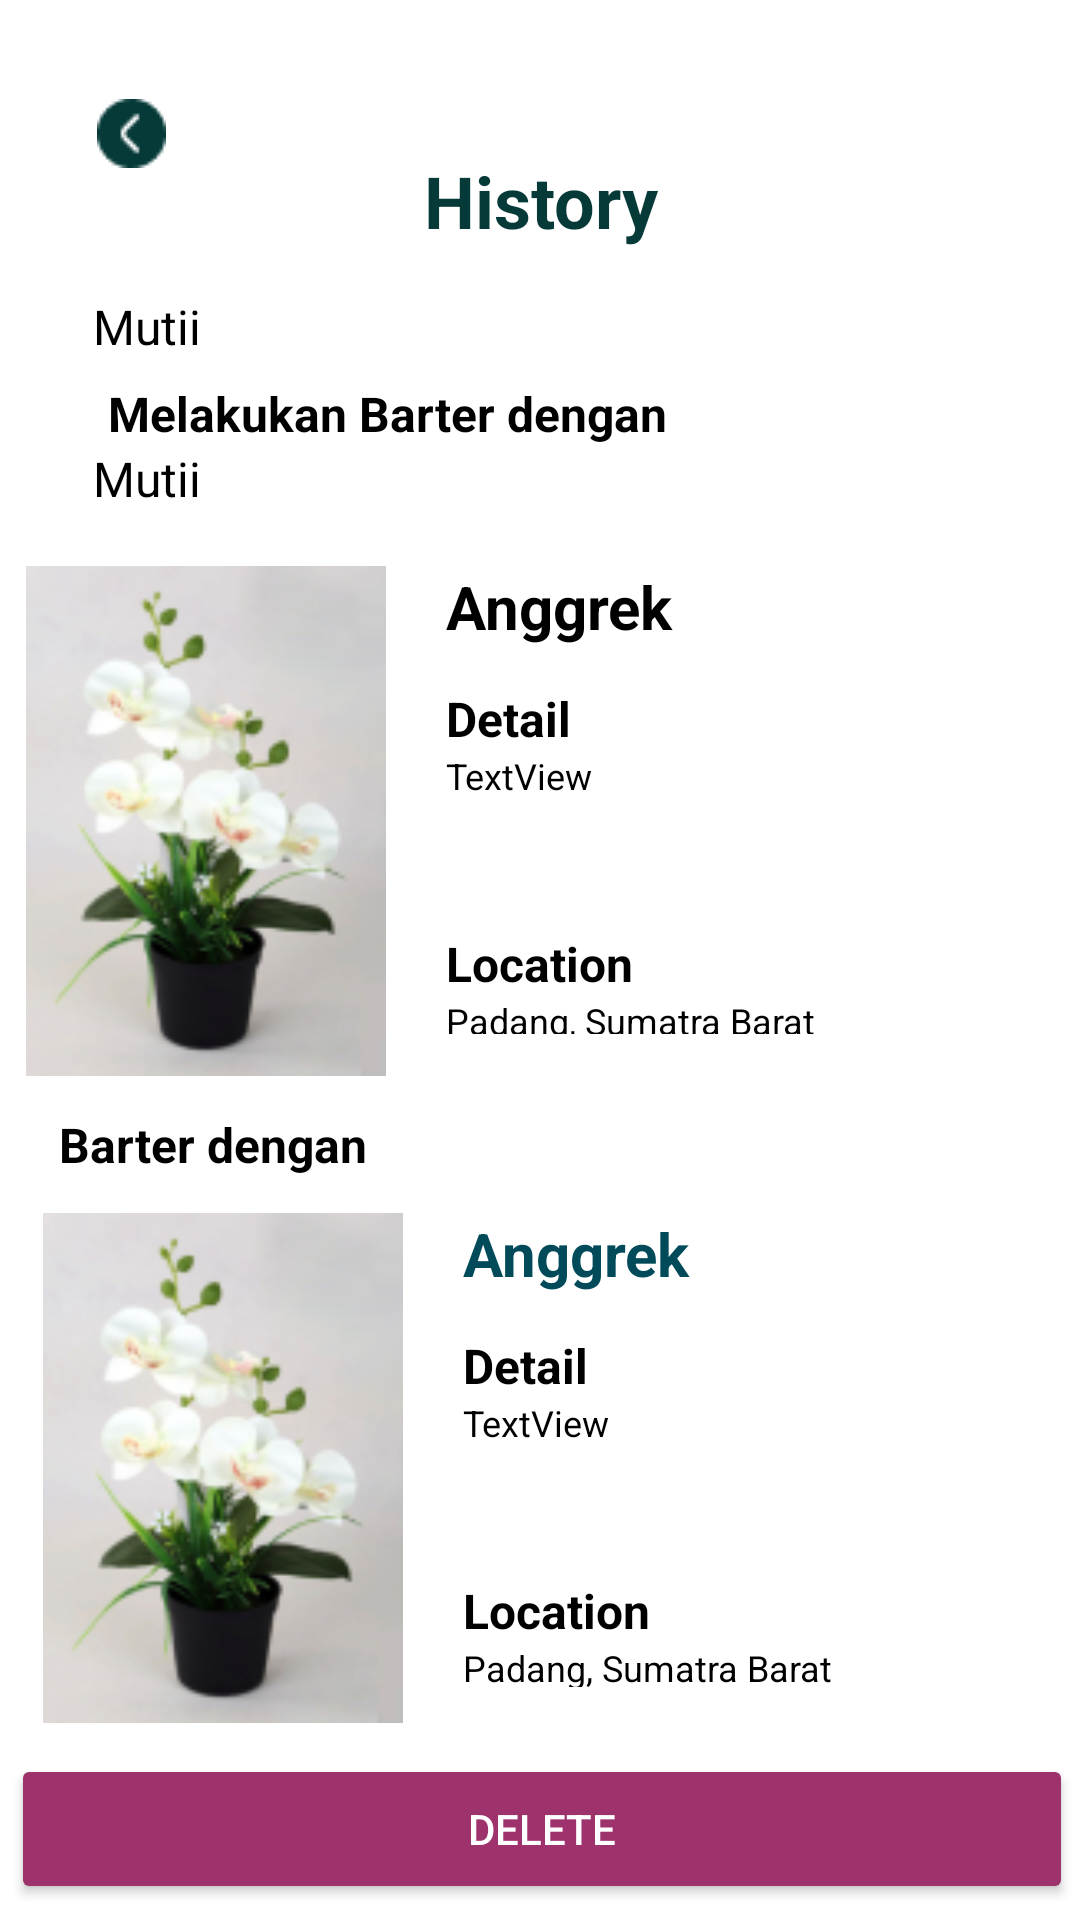

Icons on this 1080*1920 Android screen, each with its box as (x1, y1, x2, y2):
back: (97, 99, 166, 168)
